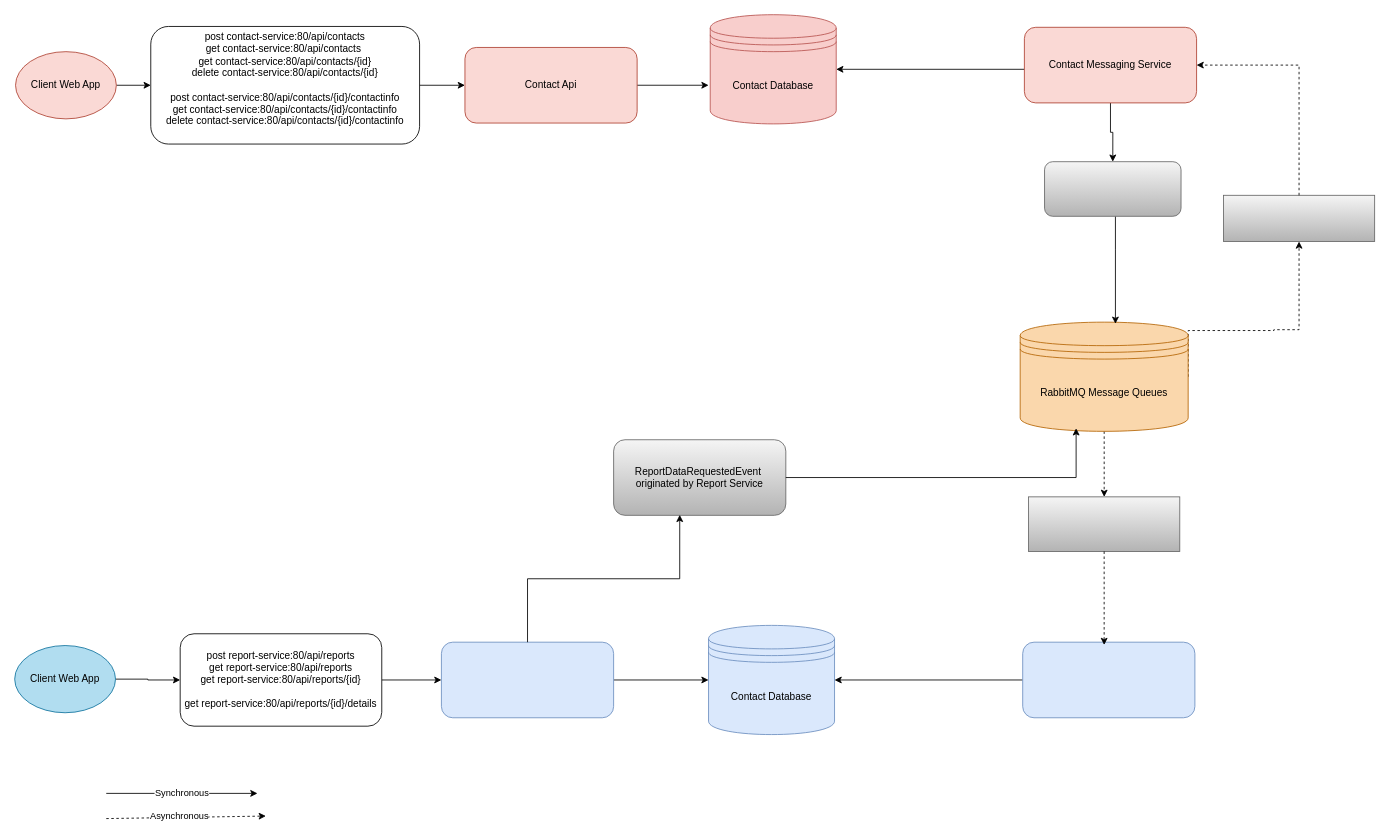
This 1389x840 diagram has some shape labels left out. Here are the shapes that lost their labels. From the top down, the centre of each, then its label:
the point at 1112,188: ReportDataCreatedEvent originated by Contact Service
the point at 1299,218: ReportDataRequestedEvent
the point at 1104,523: ReportDataCreatedEvent
the point at 527,679: Report Api
the point at 1108,679: Report Messaging Service
